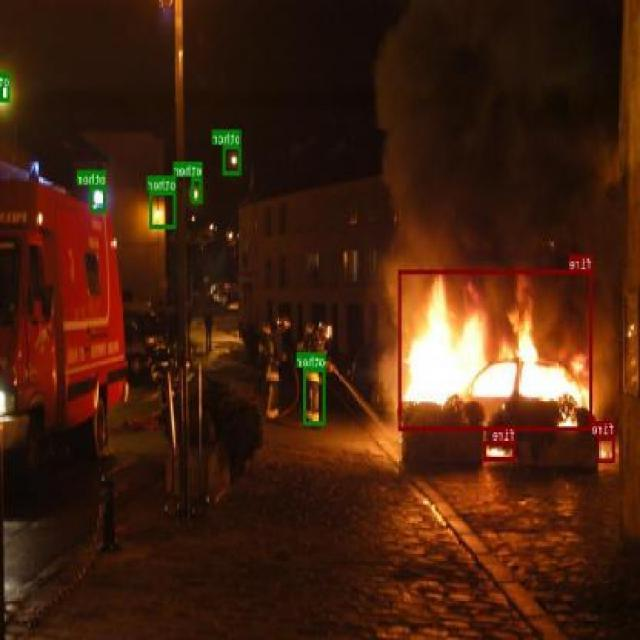Fire: (399, 269, 593, 431), (484, 440, 516, 460), (598, 434, 616, 462)
